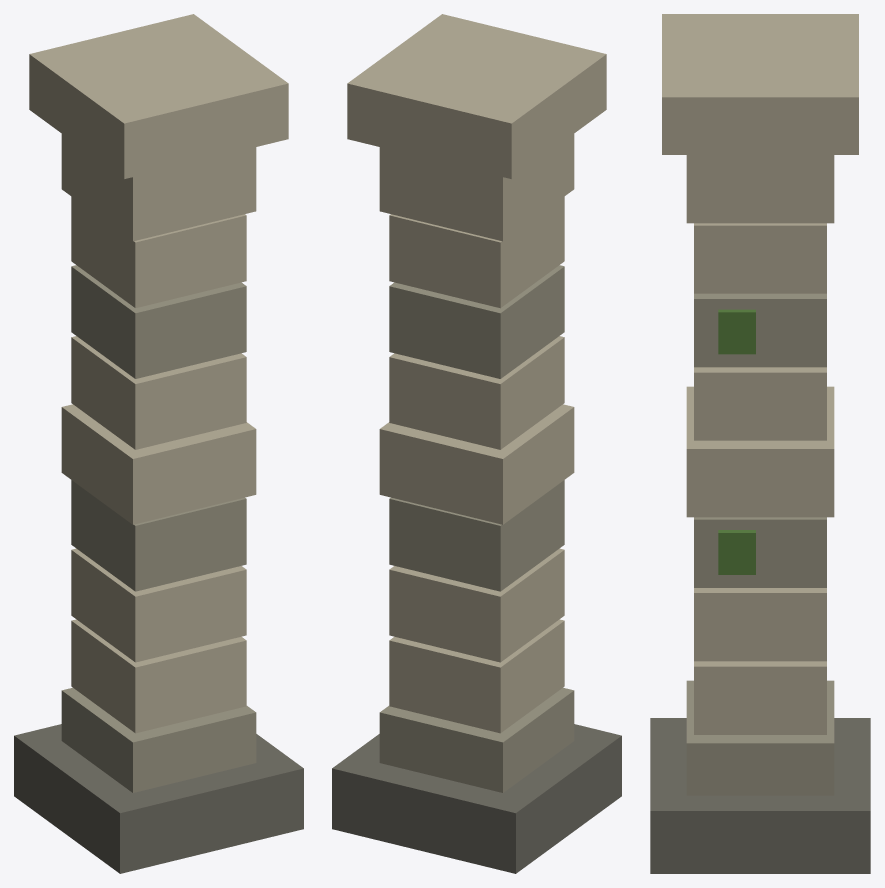
The model's file is underwater_ruins__tall_column.glb.
The picture shows the model from 3 angles, left to right: view 1: azimuth 30°, elevation 25°; view 2: azimuth 150°, elevation 25°; view 3: azimuth 270°, elevation 25°; orthographic projection. The views are drawn at different scales.
Visible parts, largest first — view 1: tall_column__stone2.001, tall_column__stone.001, tall_column__stone_dark.001; view 2: tall_column__stone2.001, tall_column__stone.001, tall_column__stone_dark.001; view 3: tall_column__stone2.001, tall_column__stone.001, tall_column__stone_dark.001, tall_column__leaf.001.
Boxes of the visible parts, x1,y1,x2,y2 form: tall_column__stone2.001: [29, 14, 288, 733]; tall_column__stone.001: [61, 265, 256, 792]; tall_column__stone_dark.001: [14, 724, 303, 873]; tall_column__stone2.001: [347, 14, 606, 733]; tall_column__stone.001: [379, 265, 574, 792]; tall_column__stone_dark.001: [332, 724, 621, 873]; tall_column__stone2.001: [662, 14, 858, 734]; tall_column__stone.001: [686, 293, 834, 795]; tall_column__stone_dark.001: [650, 718, 870, 873]; tall_column__leaf.001: [718, 309, 755, 574].
Size of the model in its own units: 0.76 by 2.94 by 0.76.
